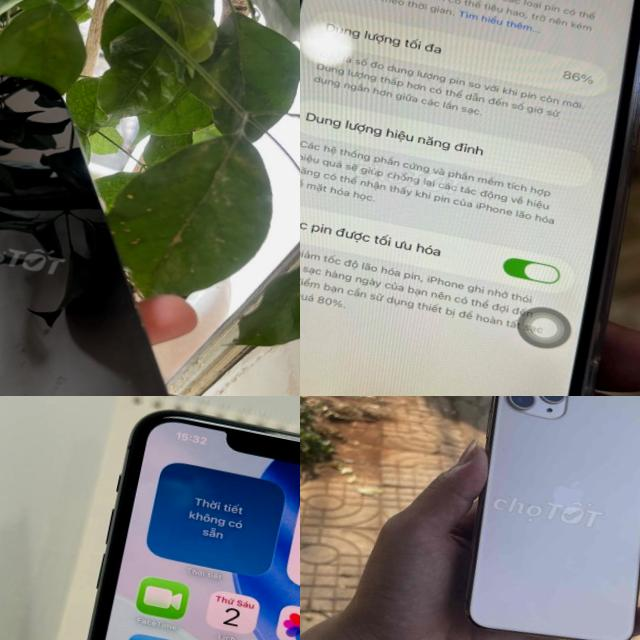gen_11: (9, 396, 300, 640), (438, 396, 640, 640)
gen_12_13: (300, 0, 640, 396), (0, 35, 257, 396)
